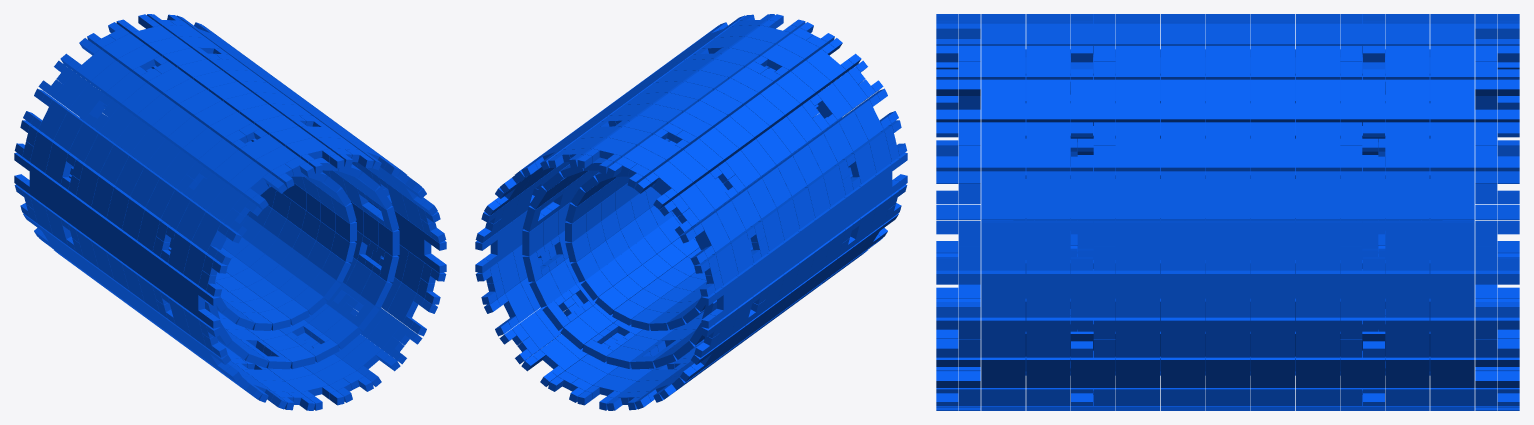
File: barrel-chambers.obj
3 views of the same model, side by side, from view 1: azimuth 30°, elevation 25°; view 2: azimuth 150°, elevation 25°; view 3: azimuth 270°, elevation 25° (orthographic). The views are drawn at different scales.
Parts seen in each view (by area): view 1: chamber_B3_F10_Z11, chamber_B3_F08_Z11, chamber_B3_F09_Z02, chamber_B3_F22_Z11, chamber_B3_F20_Z11, chamber_B3_F11_Z02, chamber_B3_F07_Z02, chamber_B3_F10_Z02, chamber_B3_F10_Z03, chamber_B3_F10_Z09, chamber_B3_F10_Z01, chamber_B3_F10_Z04 (+92 smaller); view 2: chamber_B3_F10_Z01, chamber_B3_F08_Z01, chamber_B3_F09_Z10, chamber_B3_F22_Z01, chamber_B3_F20_Z01, chamber_B3_F11_Z10, chamber_B3_F07_Z10, chamber_B3_F10_Z03, chamber_B3_F10_Z09, chamber_B3_F10_Z10, chamber_B3_F10_Z04, chamber_B3_F10_Z08 (+92 smaller); view 3: chamber_B3_F01_Z06, chamber_B3_F02_Z06, chamber_B3_F03_Z06, chamber_B3_F01_Z01, chamber_B3_F01_Z02, chamber_B3_F01_Z04, chamber_B3_F01_Z05, chamber_B3_F01_Z07, chamber_B3_F01_Z08, chamber_B3_F01_Z10, chamber_B3_F01_Z11, chamber_B3_F02_Z01 (+104 smaller).
Boxes of the visible parts, <box> form: chamber_B3_F10_Z11: <box>191,212,225,252</box>; chamber_B3_F08_Z11: <box>229,161,268,197</box>; chamber_B3_F09_Z02: <box>69,83,104,121</box>; chamber_B3_F22_Z11: <box>387,282,418,322</box>; chamber_B3_F20_Z11: <box>342,338,381,370</box>; chamber_B3_F11_Z02: <box>45,142,71,184</box>; chamber_B3_F07_Z02: <box>117,44,160,72</box>; chamber_B3_F10_Z02: <box>53,111,87,151</box>; chamber_B3_F10_Z03: <box>69,122,103,162</box>; chamber_B3_F10_Z09: <box>161,189,195,229</box>; chamber_B3_F10_Z01: <box>38,100,72,139</box>; chamber_B3_F10_Z04: <box>84,133,118,173</box>; chamber_B3_F10_Z01: <box>696,212,730,252</box>; chamber_B3_F08_Z01: <box>653,161,692,197</box>; chamber_B3_F09_Z10: <box>817,83,852,121</box>; chamber_B3_F22_Z01: <box>503,282,534,322</box>; chamber_B3_F20_Z01: <box>540,338,579,370</box>; chamber_B3_F11_Z10: <box>850,142,876,184</box>; chamber_B3_F07_Z10: <box>761,44,804,72</box>; chamber_B3_F10_Z03: <box>726,189,760,229</box>; chamber_B3_F10_Z09: <box>818,122,852,162</box>; chamber_B3_F10_Z10: <box>834,111,868,151</box>; chamber_B3_F10_Z04: <box>742,178,776,218</box>; chamber_B3_F10_Z08: <box>803,133,837,173</box>; chamber_B3_F01_Z06: <box>1205,221,1250,270</box>; chamber_B3_F02_Z06: <box>1205,171,1250,220</box>; chamber_B3_F03_Z06: <box>1205,122,1250,171</box>; chamber_B3_F01_Z01: <box>1430,221,1474,270</box>; chamber_B3_F01_Z02: <box>1385,221,1429,270</box>; chamber_B3_F01_Z04: <box>1295,221,1339,270</box>; chamber_B3_F01_Z05: <box>1250,221,1294,270</box>; chamber_B3_F01_Z07: <box>1161,221,1205,270</box>; chamber_B3_F01_Z08: <box>1116,221,1160,270</box>; chamber_B3_F01_Z10: <box>1026,221,1070,270</box>; chamber_B3_F01_Z11: <box>981,221,1025,270</box>; chamber_B3_F02_Z01: <box>1430,171,1474,220</box>.
Bounding box in the file's own units: 16.9 × 16.9 × 25.
